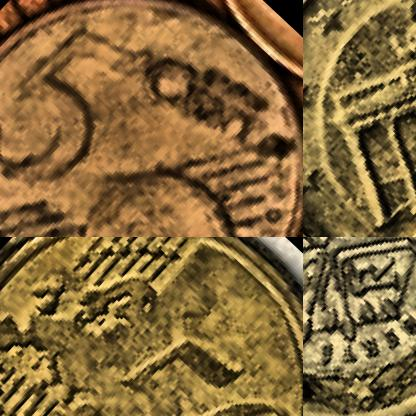coin: (0, 0, 302, 236), (0, 237, 302, 415), (303, 0, 415, 236), (303, 237, 415, 415)
